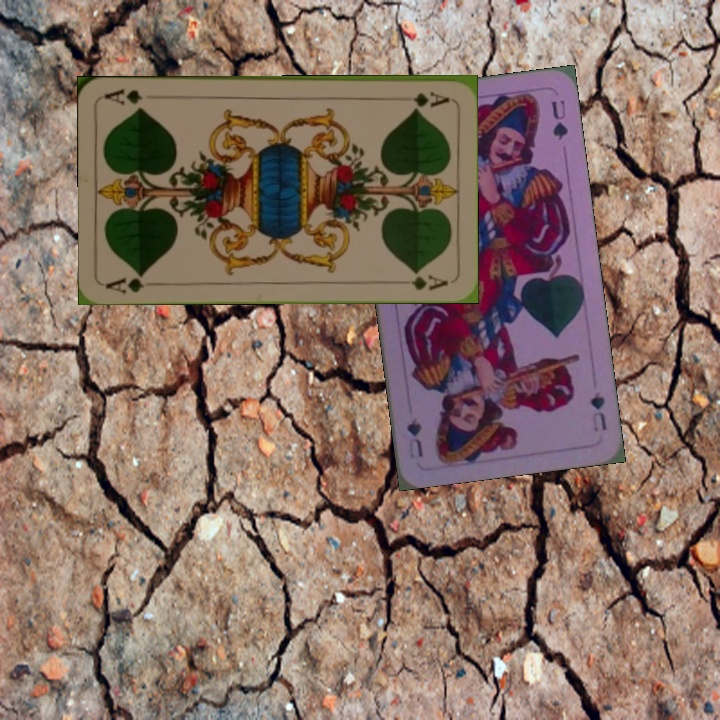GA: (103, 269, 162, 296), (409, 87, 451, 109)
GU: (586, 388, 609, 434)
